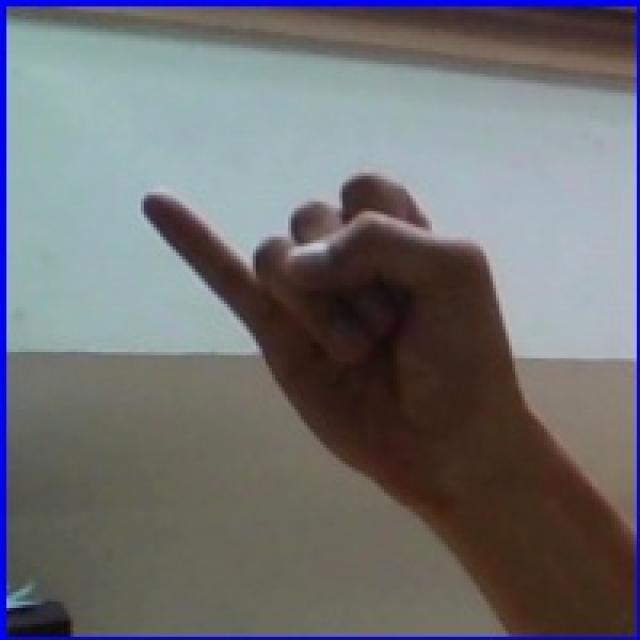J: (117, 140, 565, 584)
